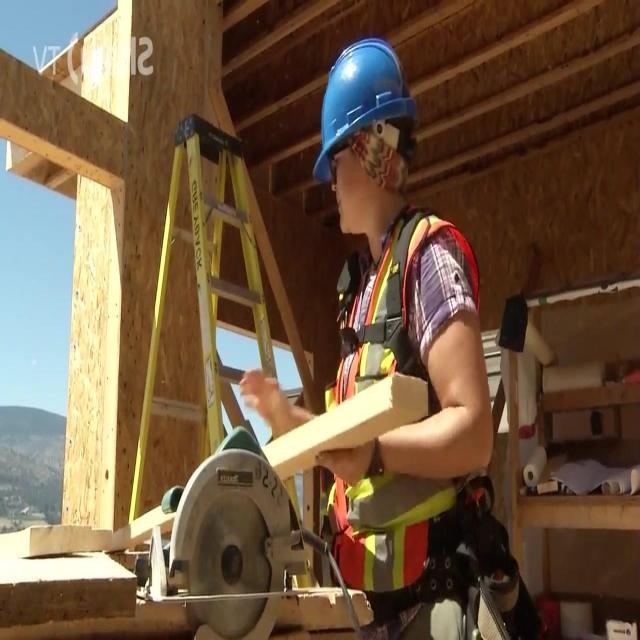Reflective-Jacket: (316, 210, 494, 612)
Safety-Helmet: (307, 28, 423, 184)
